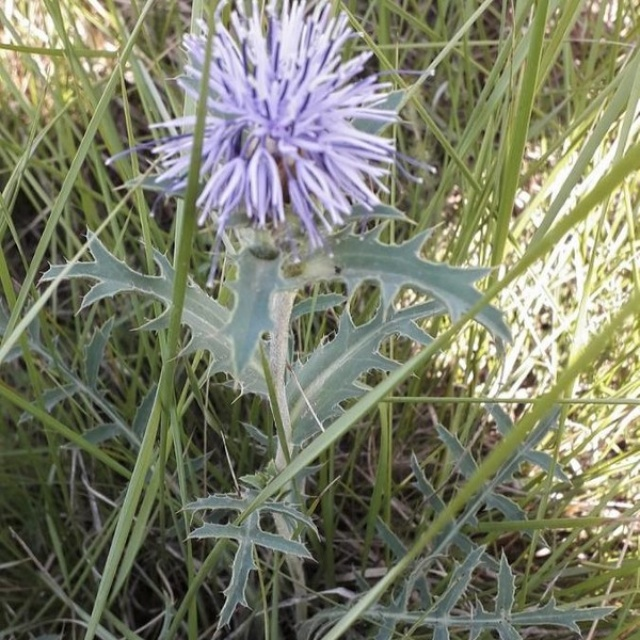obstacle: (153, 41, 505, 583)
